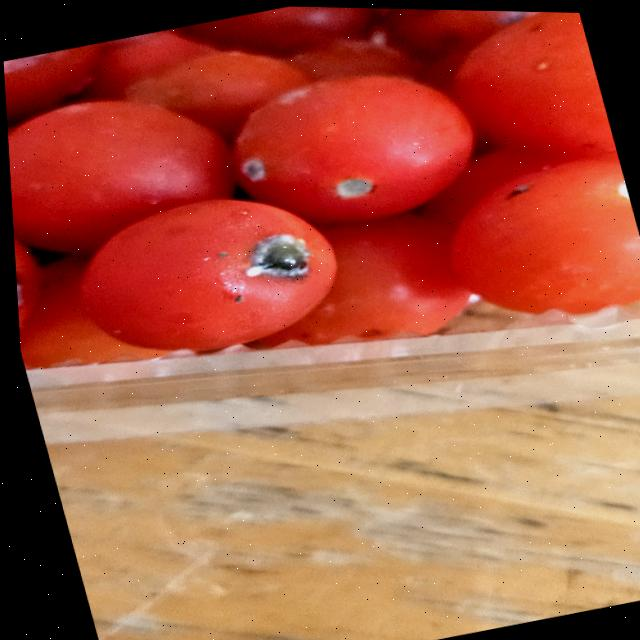rot_lvl2: (238, 230, 322, 281), (238, 156, 275, 185)
